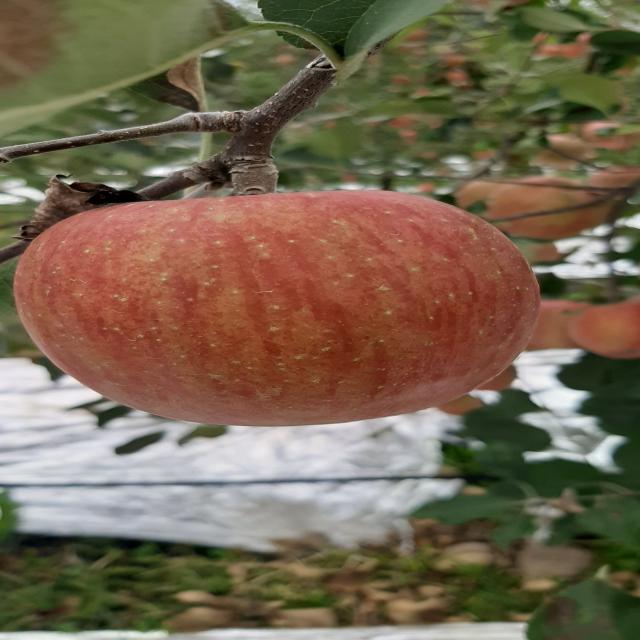fresh: (5, 183, 546, 433)
